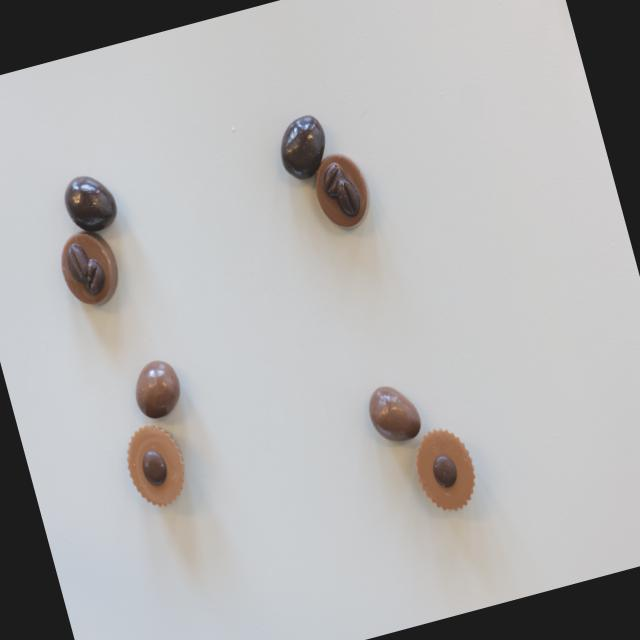Arabia: (307, 147, 378, 235), (54, 224, 124, 313)
Jelly_Black: (271, 110, 334, 180), (58, 168, 120, 236)
Jelly_Milk: (362, 377, 424, 449), (126, 354, 188, 424)
Noblesse: (407, 421, 484, 517), (118, 418, 192, 511)
